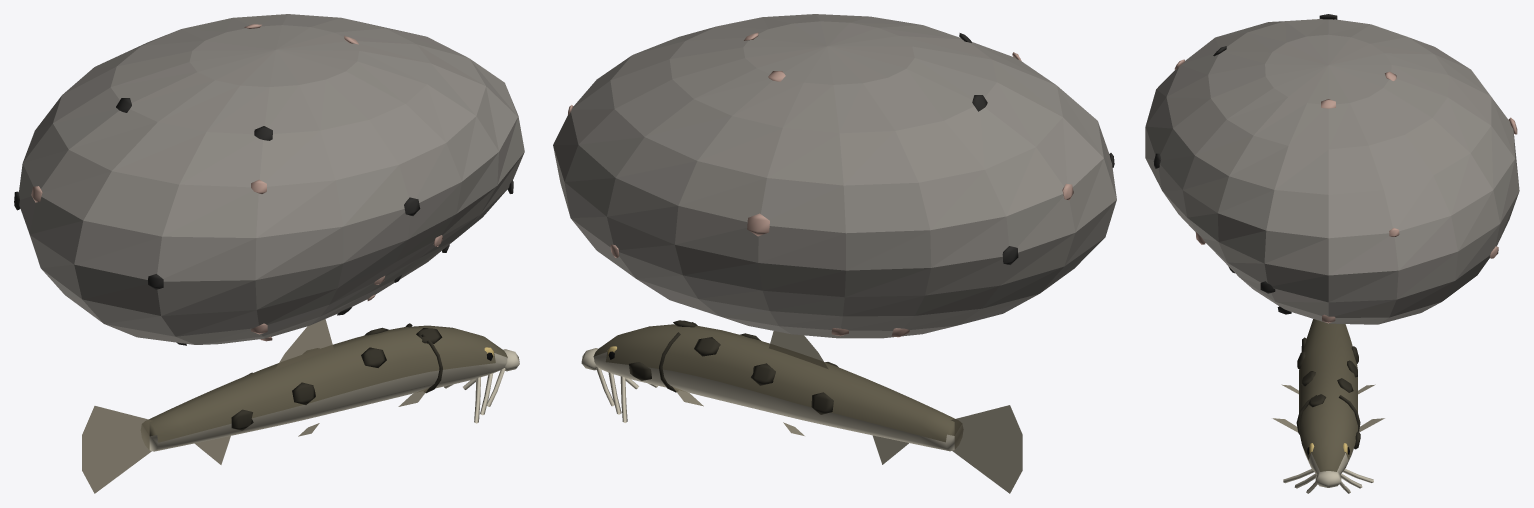
The model's file is lake-gubach-shallows-0.glb.
3 views of the same model, side by side, from view 1: azimuth 30°, elevation 25°; view 2: azimuth 150°, elevation 25°; view 3: azimuth 270°, elevation 25° (orthographic). The views are drawn at different scales.
Parts seen in each view (by area): view 1: lake-gubach-shallows-0; view 2: lake-gubach-shallows-0; view 3: lake-gubach-shallows-0.
Part boxes in pixels (x1,y1,x2,y2): lake-gubach-shallows-0: [14, 14, 524, 493]; lake-gubach-shallows-0: [553, 14, 1116, 493]; lake-gubach-shallows-0: [1145, 14, 1519, 493].
Bounding box in the file's own units: 0.1391 × 0.1093 × 0.1066.
